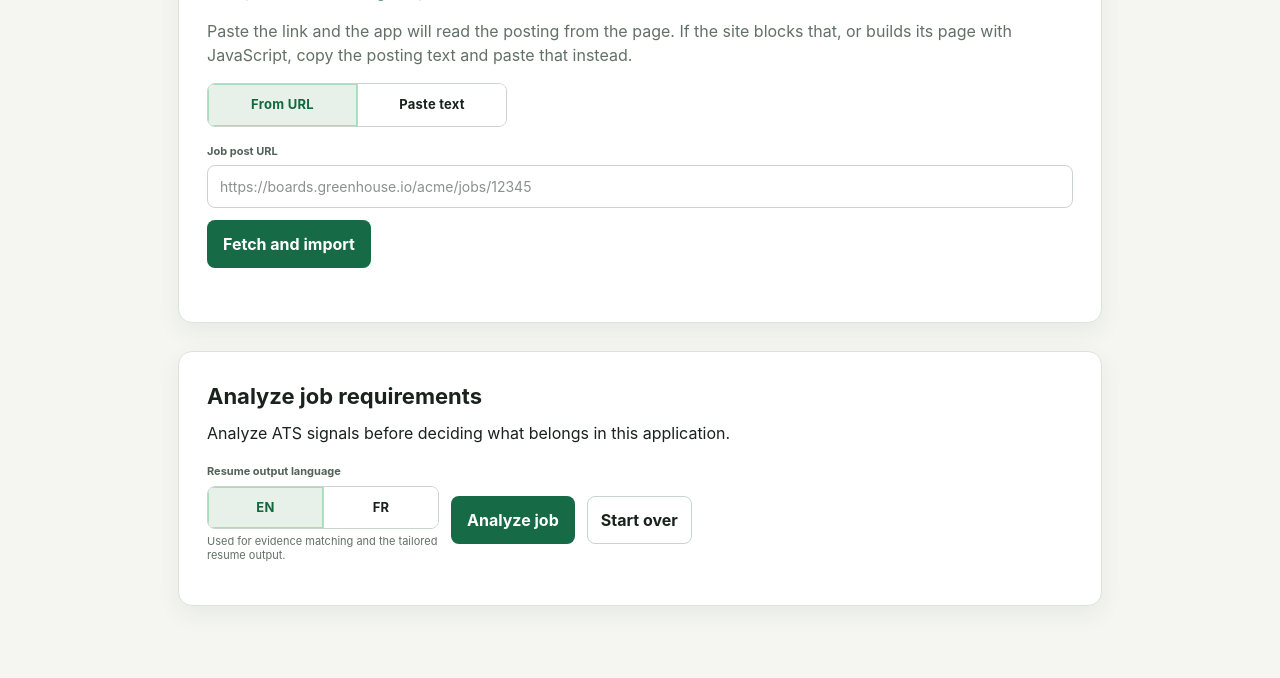
render stability during a run › keeps the pipeline mounted when a result event lands mid-run
(page scrolled)
Click the button "Analyze job". click: (513, 520)
box: [451,496,575,544]
(page scrolled)
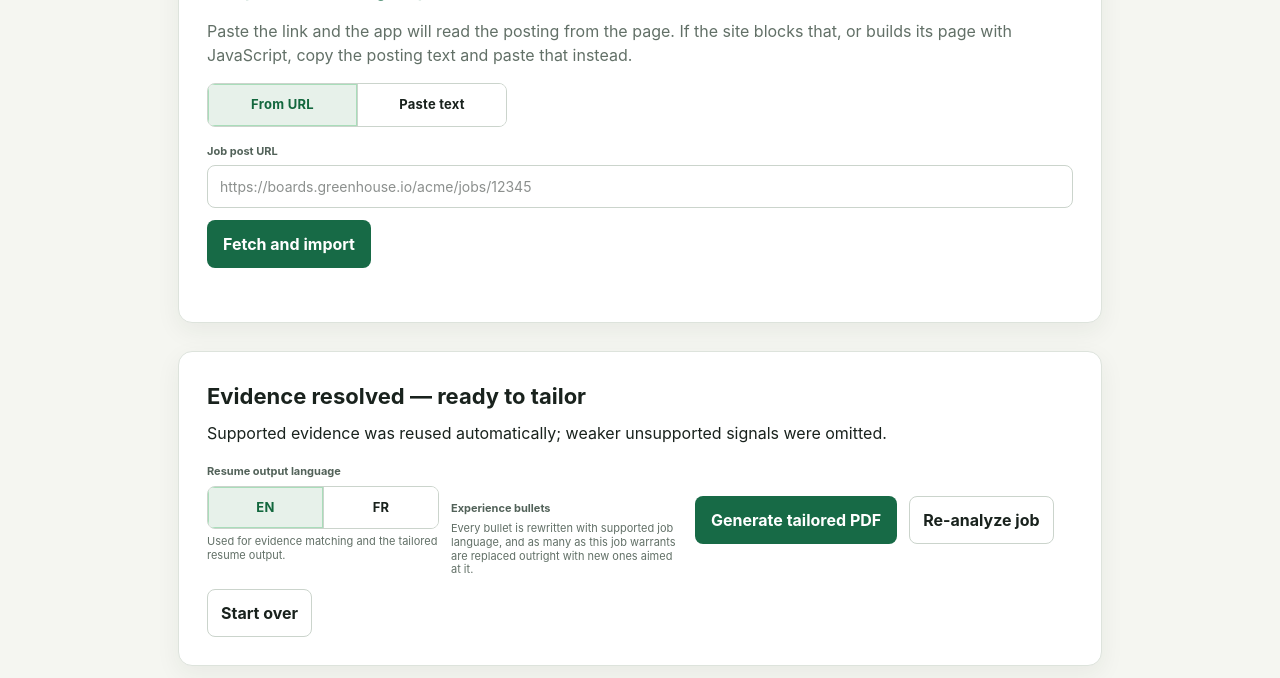
Click the button "Generate tailored PDF". click: (796, 520)
box: [695,496,897,544]
(page scrolled)
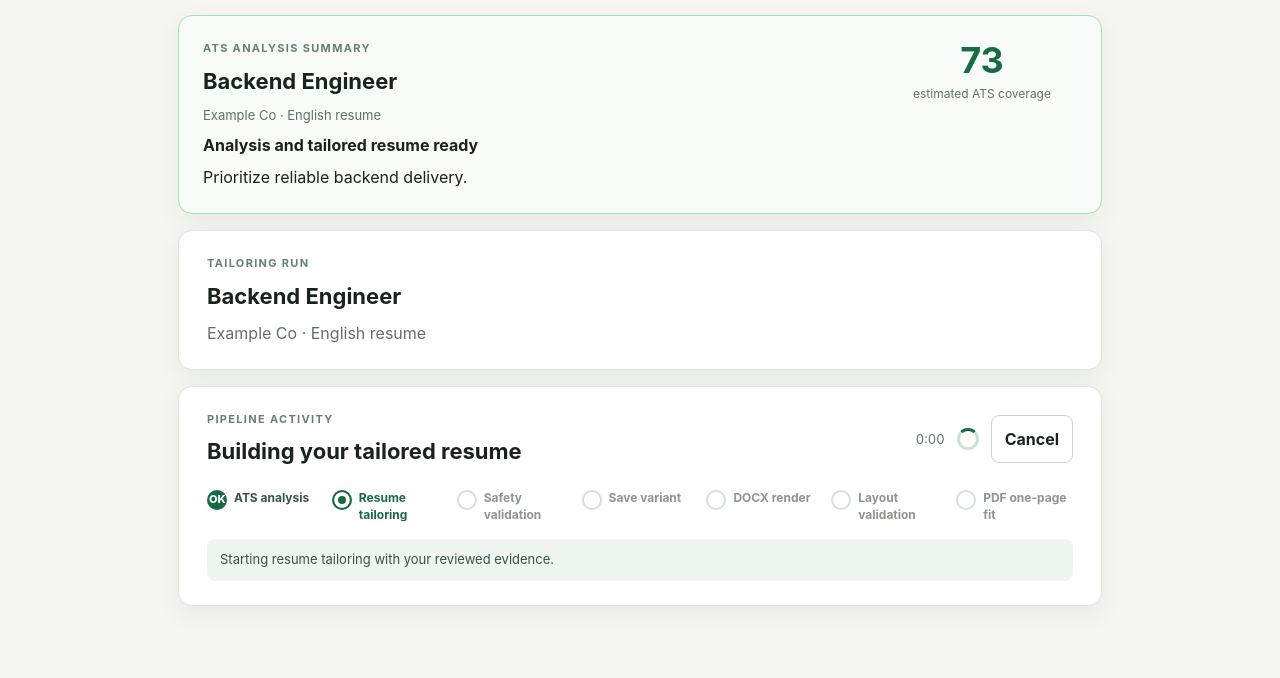
Now the element with test id "focused-pipeline" is shown, box [178,230,1102,606]
